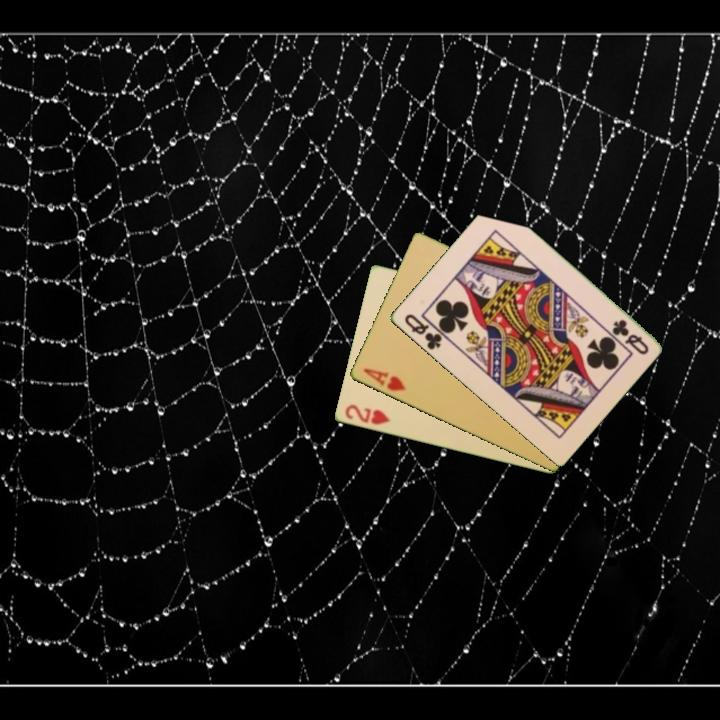2h: (341, 401, 393, 428)
Ah: (359, 365, 408, 394)
Qc: (400, 310, 450, 353), (608, 316, 651, 358)
